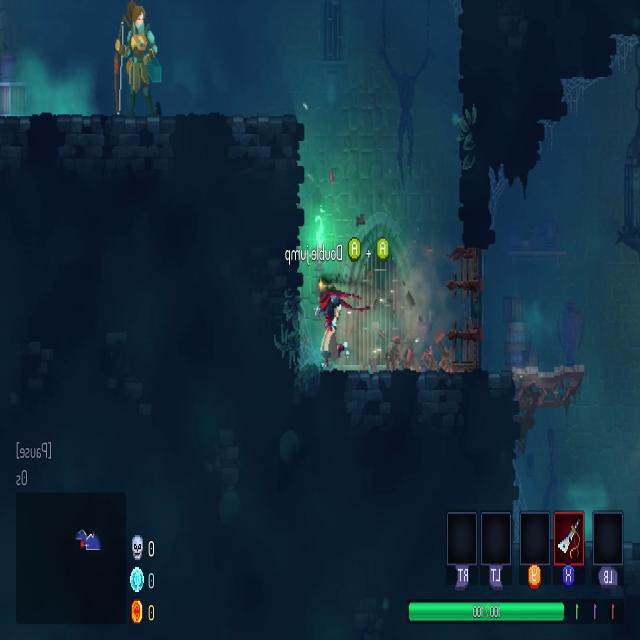agents: (315, 282, 351, 371)
